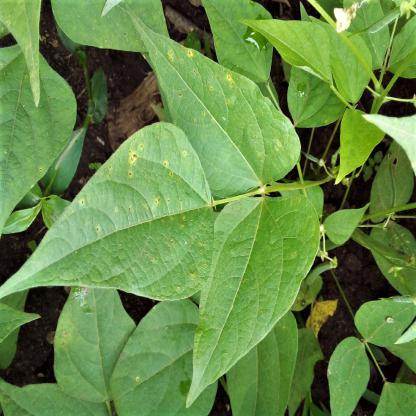Beans_Rust: (0, 124, 215, 306), (145, 29, 301, 196)
